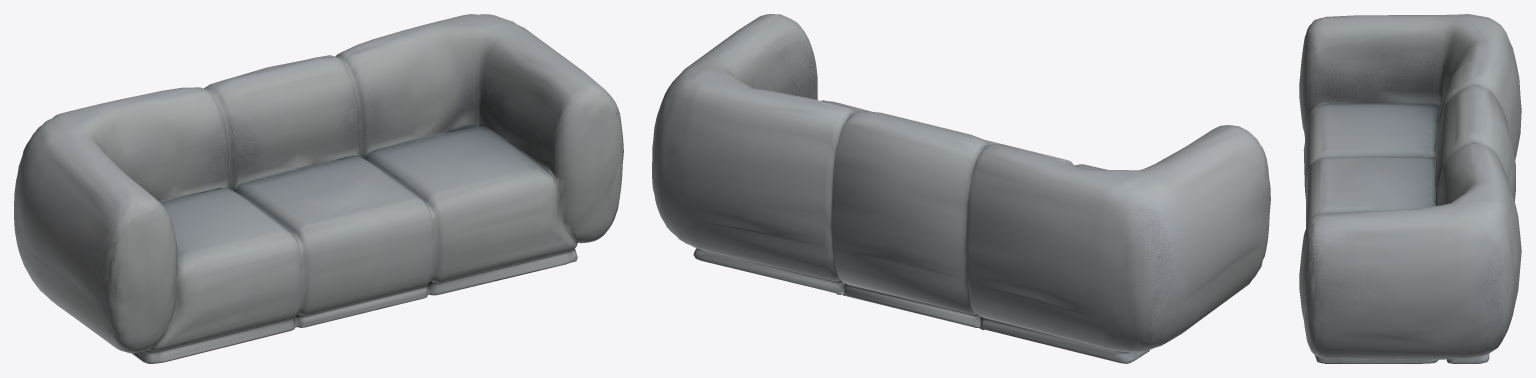
The model's file is white_comfort_sofa_0127182918_texture.glb.
3 views of the same model, side by side, from view 1: azimuth 30°, elevation 25°; view 2: azimuth 150°, elevation 25°; view 3: azimuth 270°, elevation 25° (orthographic). The views are drawn at different scales.
Visible parts, largest first — view 1: Mesh_0.001; view 2: Mesh_0.001; view 3: Mesh_0.001.
Boxes of the visible parts, x1,y1,x2,y2 form: Mesh_0.001: [14, 14, 623, 363]; Mesh_0.001: [652, 14, 1270, 363]; Mesh_0.001: [1299, 14, 1521, 363].
Size of the model in its own units: 2.52 by 0.8128 by 1.03.
1 material, 1 textured.
